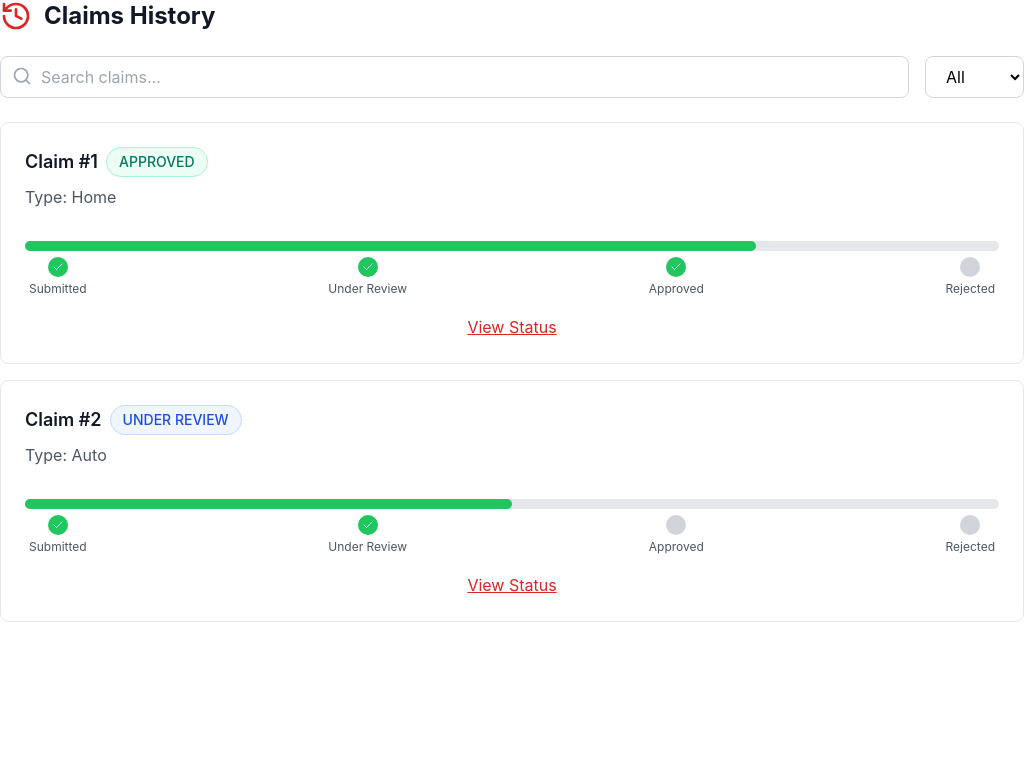
Test: ClaimHistory Component › opens claim history modal when claim is selected
This screenshot has width=1024, height=768.
Click the 1st button "View Status". click: (512, 327)
box: [467, 315, 557, 339]
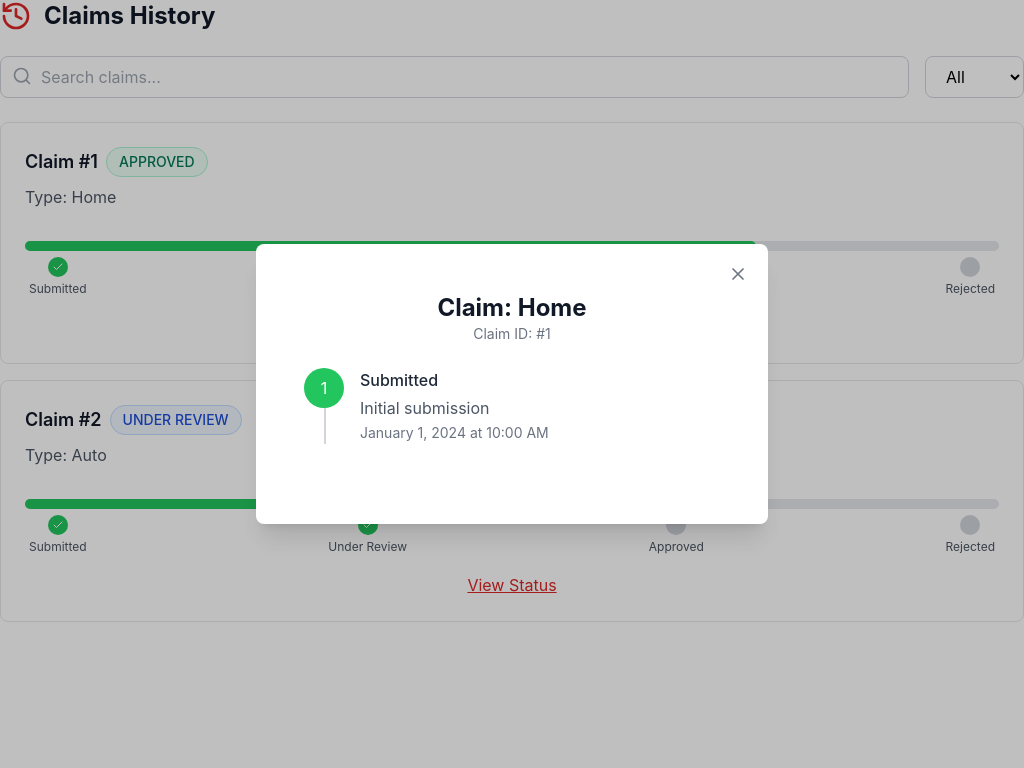
Now the heading "Claim: Home" is shown, box [437, 293, 587, 322]
Now the text "Claim ID: #1" is shown, box [473, 325, 551, 342]
